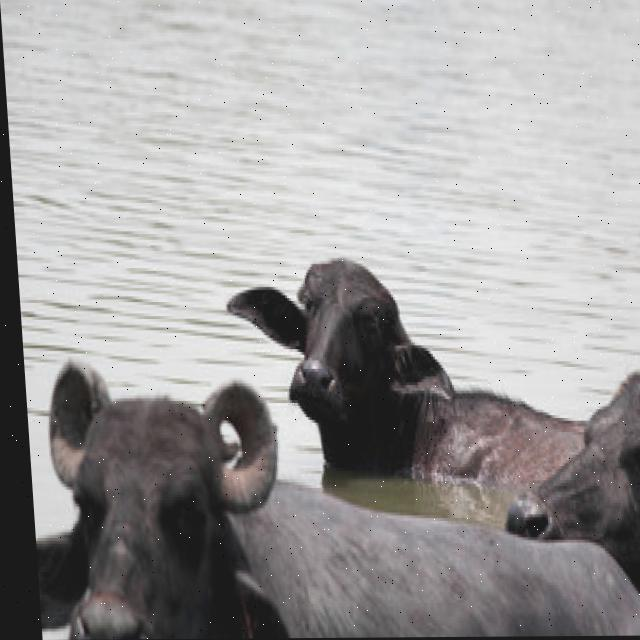Buffalo: (24, 355, 611, 640)
